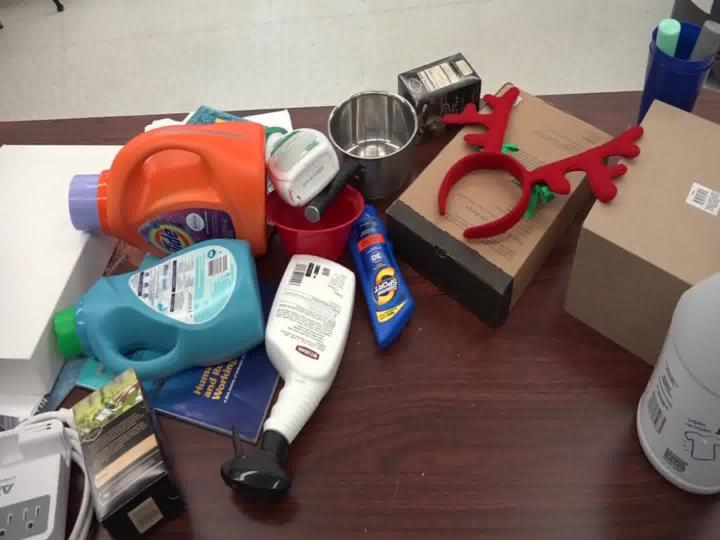downy: (36, 220, 264, 374)
